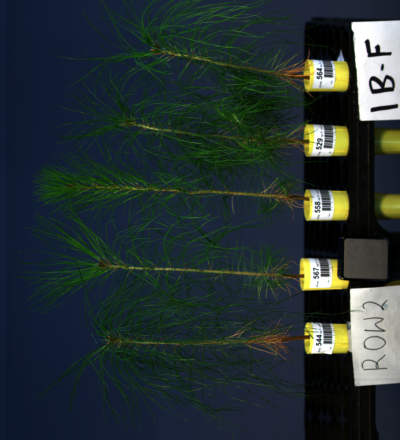tube: (301, 59, 351, 93), (301, 321, 351, 355), (298, 258, 348, 292), (302, 186, 352, 220), (301, 124, 351, 158)
